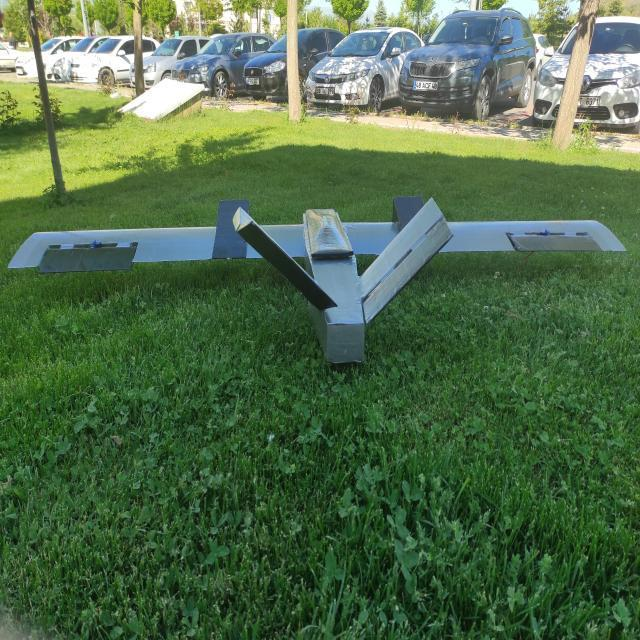UAV: (18, 146, 626, 384)
